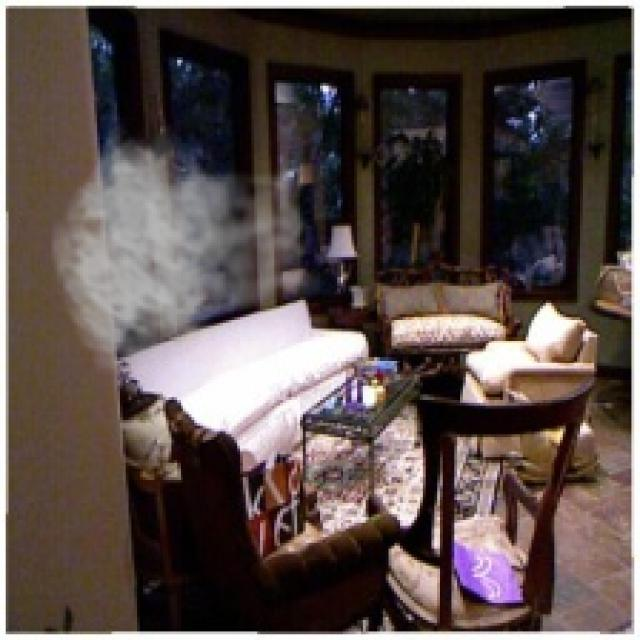smoke: (48, 117, 326, 374)
